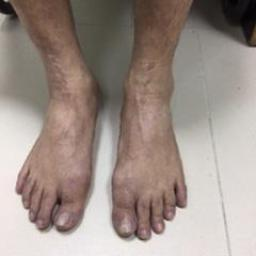Dorsal View -Both Feet-: (10, 34, 200, 241)
